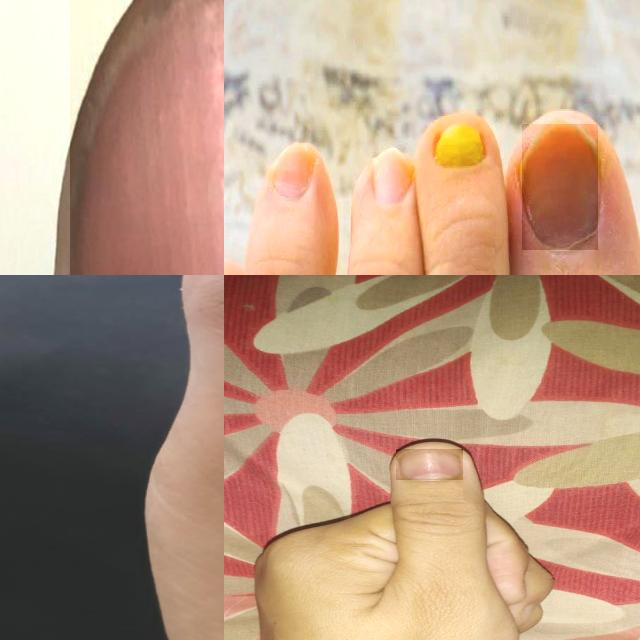diabetes: (522, 125, 598, 250), (272, 144, 314, 201), (373, 146, 411, 204), (437, 125, 484, 170)
sehat: (397, 450, 463, 480)
